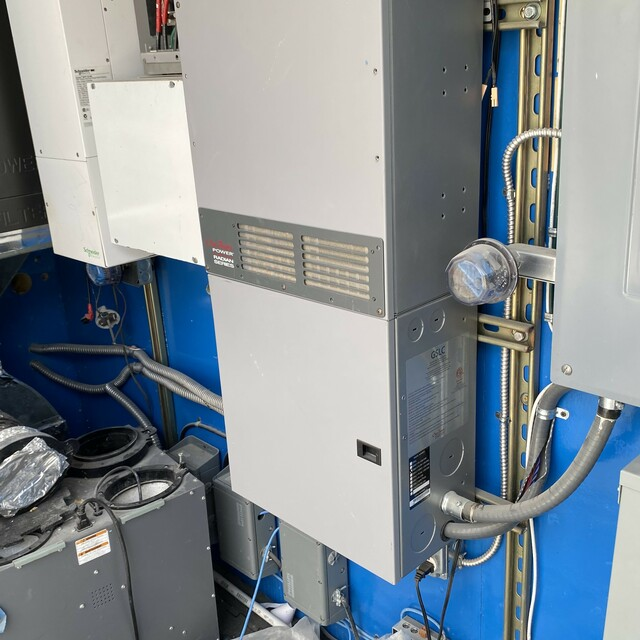inverter: (177, 1, 493, 566)
